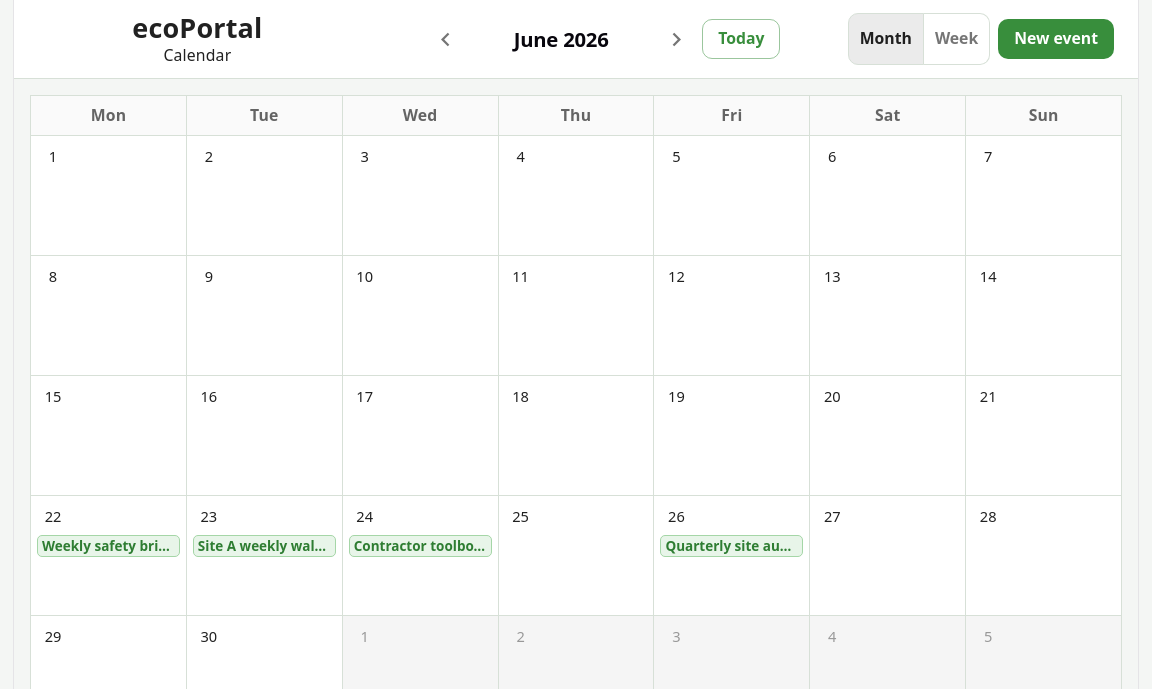
Test: App integration › navigation › moves exactly one week with previous and next in week view
Click the button with aria-label "Week view": (957, 39) [923,13,990,65]
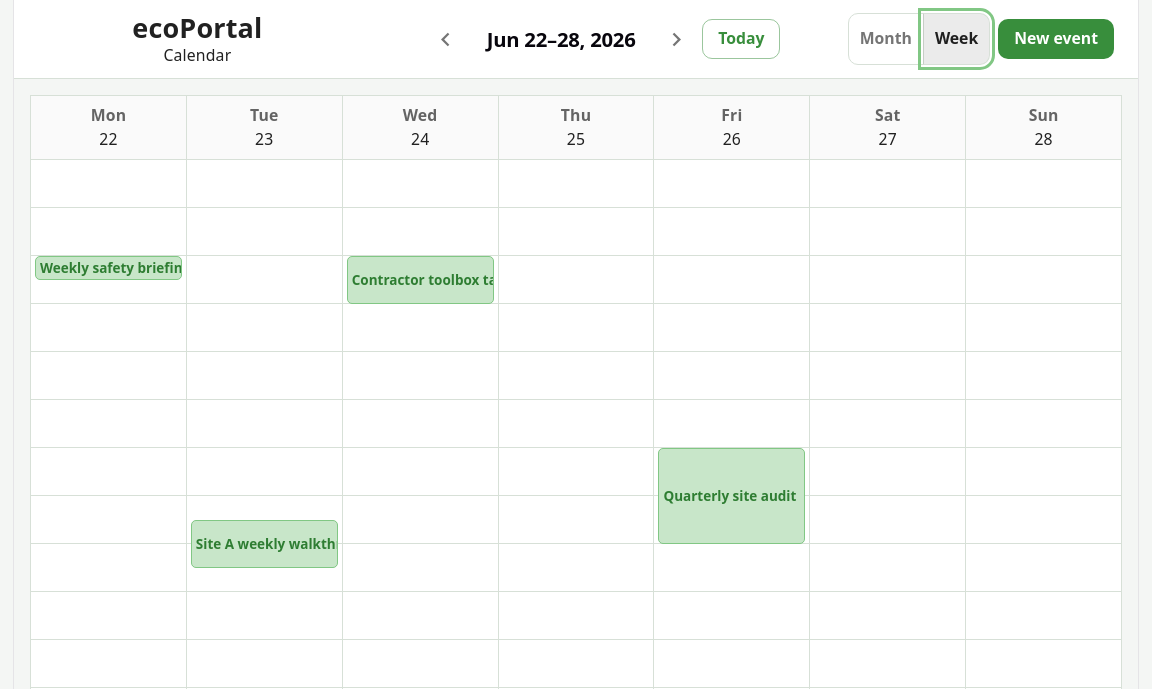
Click the button named "Previous week": (446, 39) [424,18,467,60]
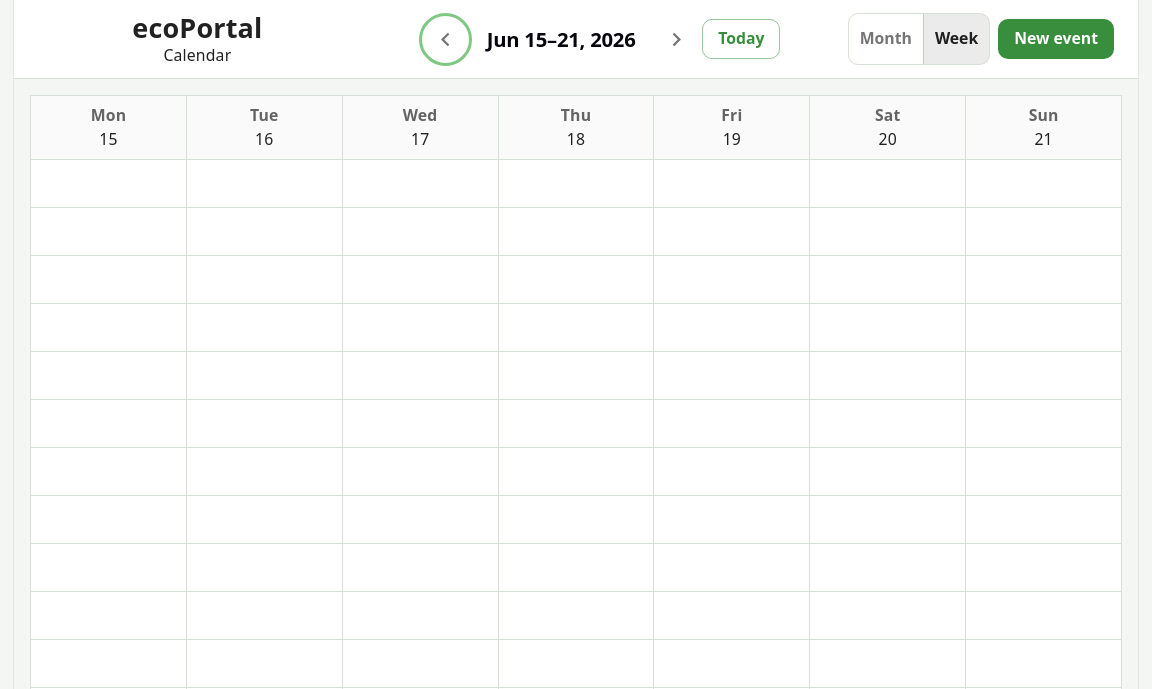
Check: the heading "Jun 15–21, 2026" is shown, box [487,25,636,53]
Click the button named "Next week": (677, 39) [655,18,698,60]
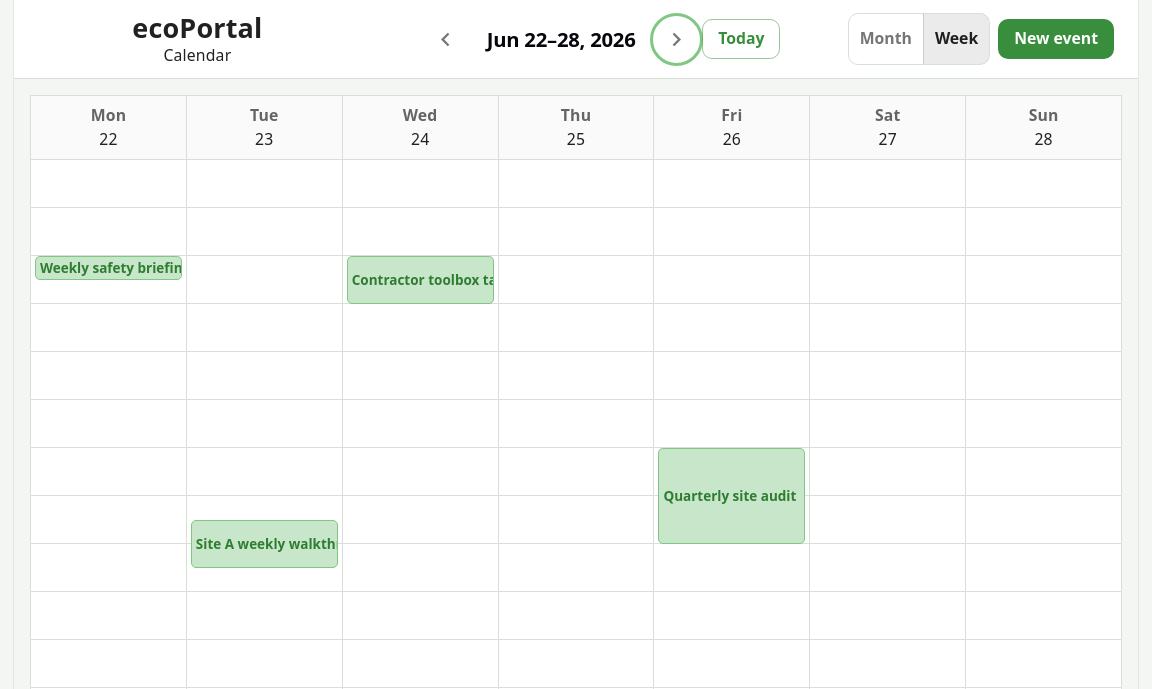
Check: the heading "Jun 22–28, 2026" is shown, box [487,25,636,53]
